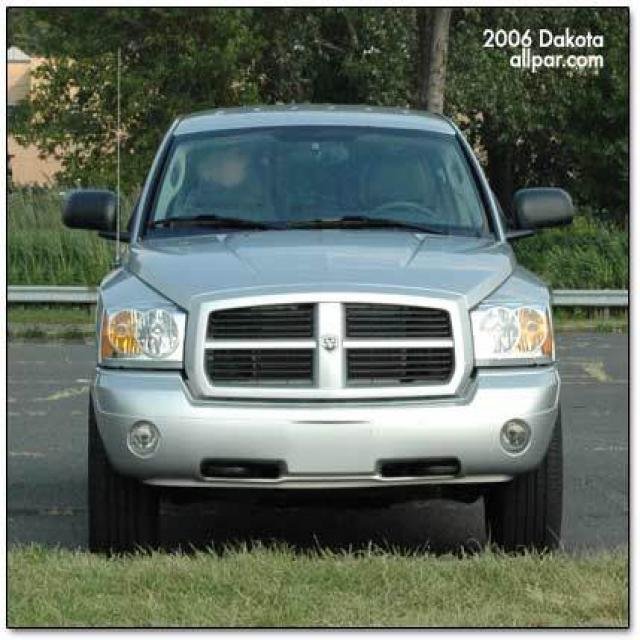car: (64, 96, 586, 550)
